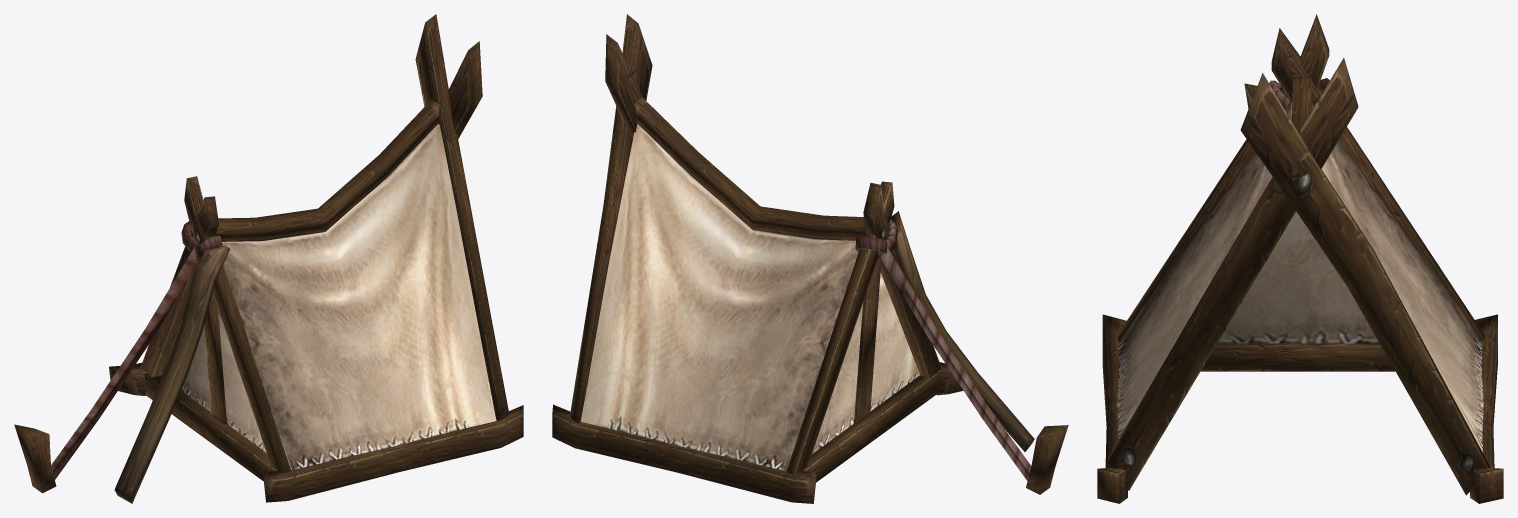
Rendered from hu_tent02.obj.
The picture shows the model from 3 angles, left to right: view 1: azimuth 30°, elevation 25°; view 2: azimuth 150°, elevation 25°; view 3: azimuth 270°, elevation 25°; orthographic projection. The views are drawn at different scales.
Visible parts, largest first — view 1: Geoset0, Geoset1; view 2: Geoset0, Geoset1; view 3: Geoset1, Geoset0.
Part boxes in pixels (x1,y1,x2,y2): Geoset0: [51, 124, 496, 479]; Geoset1: [14, 14, 523, 503]; Geoset0: [580, 124, 1031, 480]; Geoset1: [552, 14, 1068, 503]; Geoset1: [1097, 14, 1503, 503]; Geoset0: [1117, 78, 1483, 452].
Size of the model in its own units: 6.64 by 5.17 by 4.12.
Materials: 2 (2 with a texture image).
